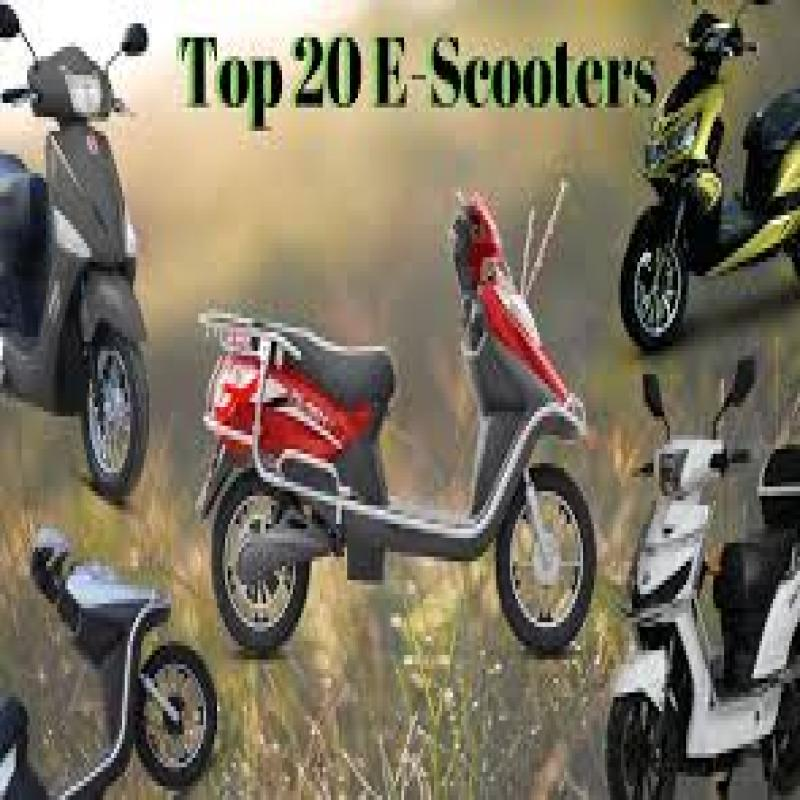bike: (181, 177, 614, 664), (592, 343, 800, 800), (0, 0, 154, 519), (592, 7, 800, 373), (0, 503, 237, 792)
